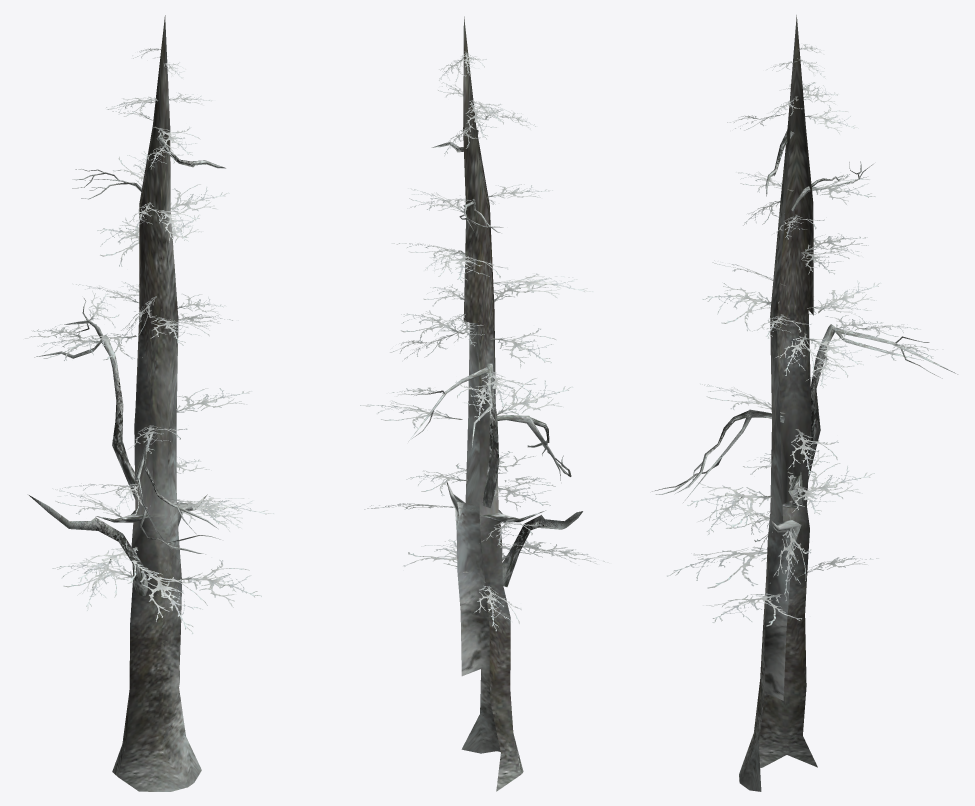
File: S_Tree_White003_1.FBX
3 renders of one model, left to right at view 1: azimuth 30°, elevation 25°; view 2: azimuth 150°, elevation 25°; view 3: azimuth 270°, elevation 25°, orthographic. The views are drawn at different scales.
Parts seen in each view (by area): view 1: S_Tree_White003_1; view 2: S_Tree_White003_1; view 3: S_Tree_White003_1.
Boxes of the visible parts, x1,y1,x2,y2 form: S_Tree_White003_1: (25, 15, 274, 791); S_Tree_White003_1: (360, 16, 608, 791); S_Tree_White003_1: (652, 15, 957, 791).
Bounding box in the file's own units: 585 × 583 × 1603.
